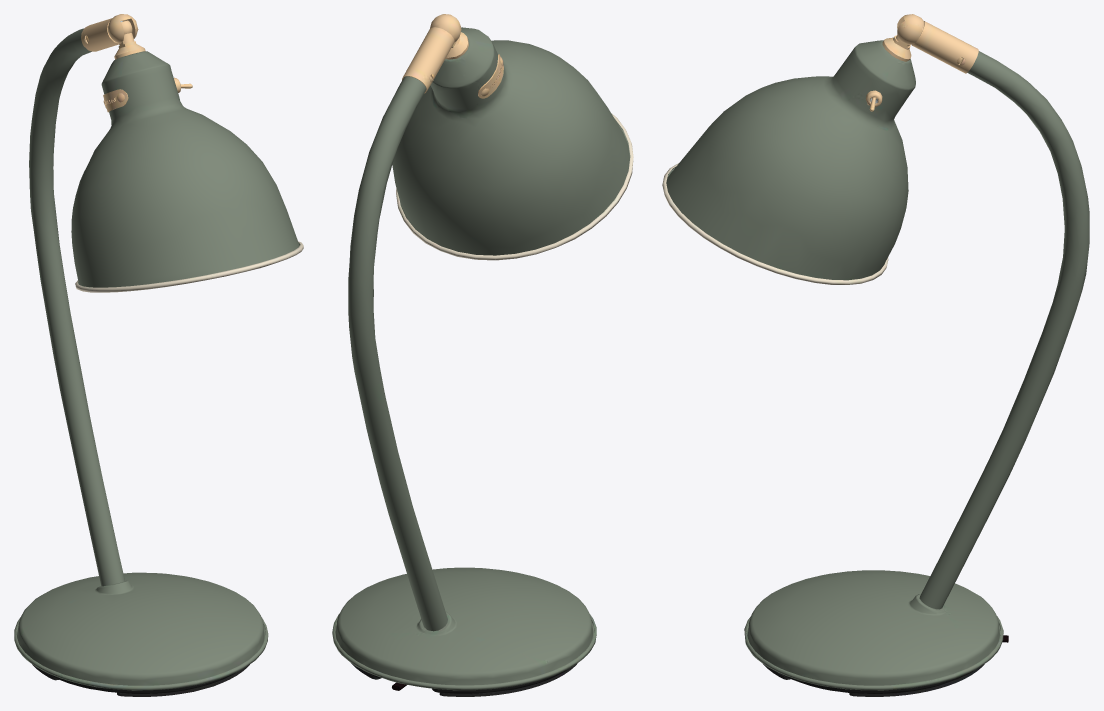
File: rodflik_lampa_na_biurko_80582706.glb
The picture shows the model from 3 angles, left to right: view 1: azimuth 30°, elevation 25°; view 2: azimuth 150°, elevation 25°; view 3: azimuth 270°, elevation 25°; orthographic projection. The views are drawn at different scales.
Visible parts, largest first — view 1: rodflik_lampa_na_biurko_80582706; view 2: rodflik_lampa_na_biurko_80582706; view 3: rodflik_lampa_na_biurko_80582706.
Part boxes in pixels (x1,y1,x2,y2): rodflik_lampa_na_biurko_80582706: (14, 14, 303, 696); rodflik_lampa_na_biurko_80582706: (332, 14, 633, 696); rodflik_lampa_na_biurko_80582706: (662, 14, 1089, 696).
Size of the model in its own units: 0.1595 by 0.4287 by 0.2628.
1 material, 1 textured.
